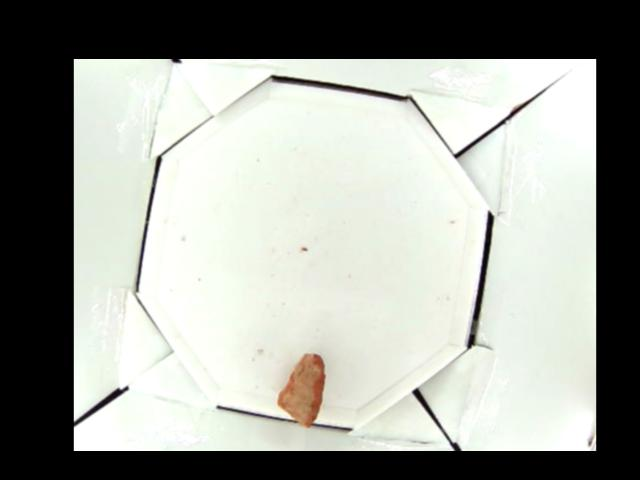Brisk: (279, 351, 326, 428)
